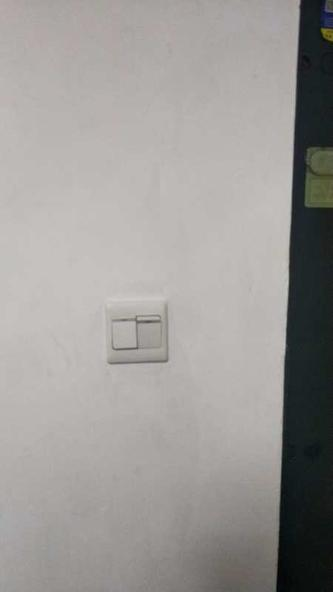switch: (108, 313, 141, 356), (134, 312, 166, 353)
